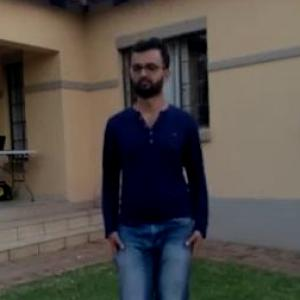follow: (101, 48, 200, 298)
